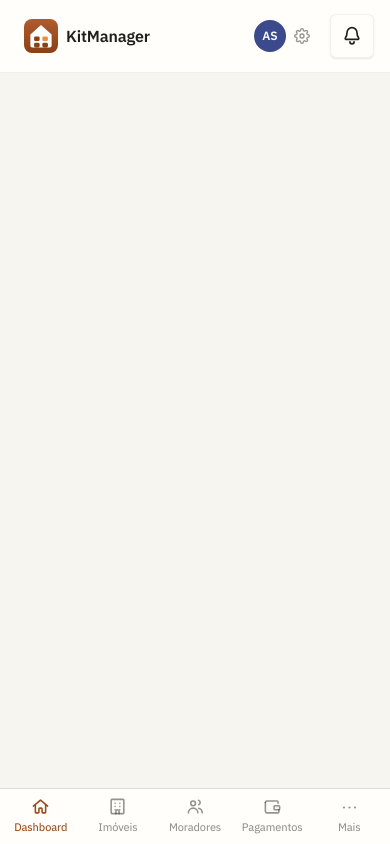
it: Sidebar: navegação do celular › deixa os destinos ocasionais fora da barra, dentro de "Mais"
Expected: the text "Relatórios" is not shown
Expected: the text "Gastos" is not shown
Click the button "Mais" at [349, 816], box [312,793,387,838]
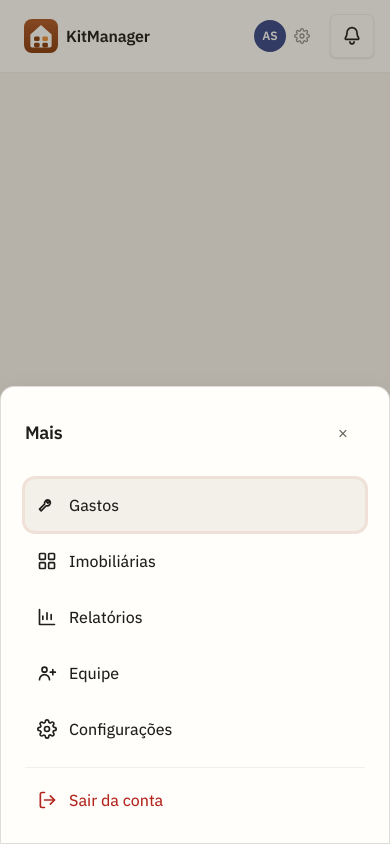
Expected: the link "Gastos" is shown, [25,479,365,531]
Expected: the link "Imobiliárias" is shown, [37,551,156,571]
Expected: the link "Relatórios" is shown, [37,607,142,627]
